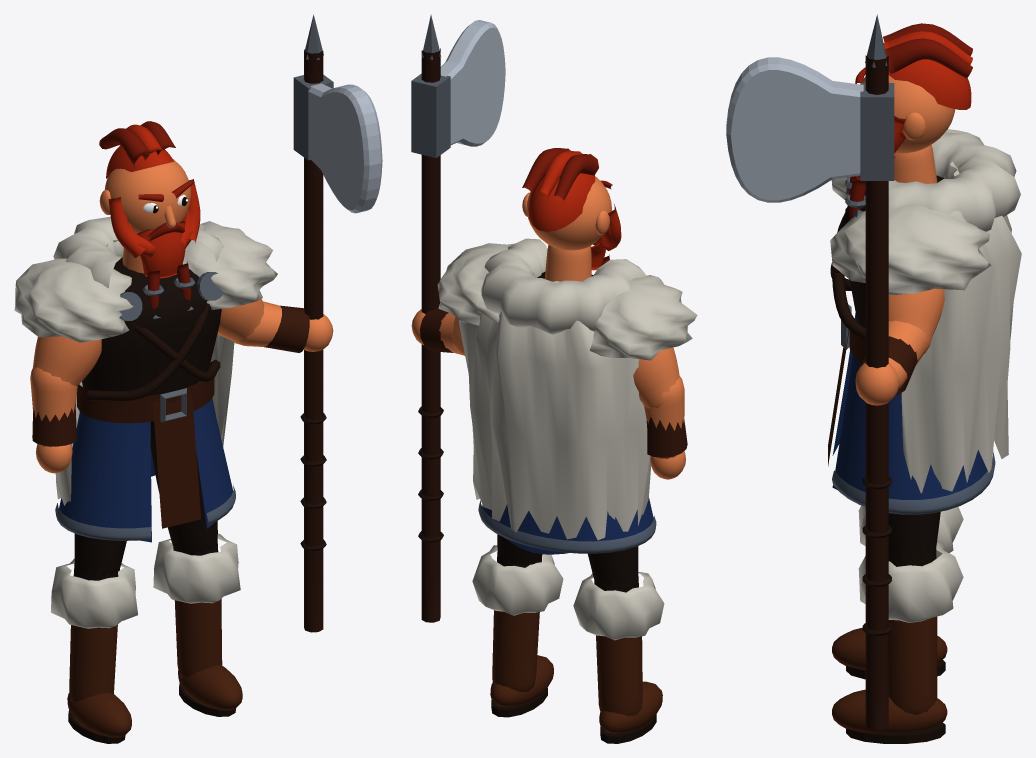
File: barbarian.glb
The picture shows the model from 3 angles, left to right: view 1: azimuth 30°, elevation 25°; view 2: azimuth 150°, elevation 25°; view 3: azimuth 270°, elevation 25°; orthographic projection. The views are drawn at different scales.
Parts seen in each view (by area): view 1: hips_kilt, armR_lower_haft, tunic, armR_lower_axe, armL_upper_fur, hips_flap, armR_upper_fur, shin_1_fur, shin_-1_fur, head, shin_-1_boot, mantle_collar (+23 smaller); view 2: cloak, mantle_collar, armR_lower_haft, armR_lower_axe, armL_upper_fur, shin_-1_fur, shin_1_fur, shin_-1_boot, shin_1_boot, armR_upper_fur, armR_lower_axe_socket, hips_kilt_trim (+18 smaller); view 3: cloak, armR_lower_axe, armR_lower_haft, armR_upper_fur, mantle_collar, hips_kilt, shin_1_boot, shin_1_fur, armR_lower_axe_socket, shin_1_foot, head, head_hair_top (+18 smaller).
Part boxes in pixels (x1,y1,x2,y2): hips_kilt: (59, 381, 232, 542); armR_lower_haft: (304, 49, 323, 632); tunic: (82, 257, 221, 395); armR_lower_axe: (308, 83, 382, 213); armL_upper_fur: (14, 258, 133, 342); hips_flap: (152, 393, 200, 528); armR_upper_fur: (182, 221, 277, 309); shin_1_fur: (153, 533, 240, 603); shin_-1_fur: (51, 558, 137, 628); head: (104, 159, 191, 233); shin_-1_boot: (69, 625, 117, 702); mantle_collar: (53, 216, 223, 288); cloak: (458, 271, 650, 540); mantle_collar: (481, 238, 646, 334); armR_lower_haft: (421, 48, 440, 622); armR_lower_axe: (440, 20, 505, 146); armL_upper_fur: (589, 275, 697, 360); shin_-1_fur: (573, 572, 664, 640); shin_1_fur: (472, 545, 563, 615); shin_-1_boot: (596, 635, 642, 716); shin_1_boot: (492, 610, 539, 692); armR_upper_fur: (437, 243, 514, 325); armR_lower_axe_socket: (411, 73, 450, 157); hips_kilt_trim: (478, 500, 656, 553); cloak: (901, 155, 1021, 493); armR_lower_axe: (726, 57, 863, 202); armR_lower_haft: (865, 55, 888, 730); armR_upper_fur: (830, 204, 991, 295); mantle_collar: (888, 132, 1020, 231); hips_kilt: (832, 313, 990, 499); shin_1_boot: (888, 616, 937, 714); shin_1_fur: (858, 542, 963, 622); armR_lower_axe_socket: (860, 83, 894, 180); shin_1_foot: (832, 689, 947, 733); head: (862, 75, 955, 153); head_hair_top: (888, 59, 971, 109).
Size of the model in its own units: 2.54 by 5.55 by 1.92.
